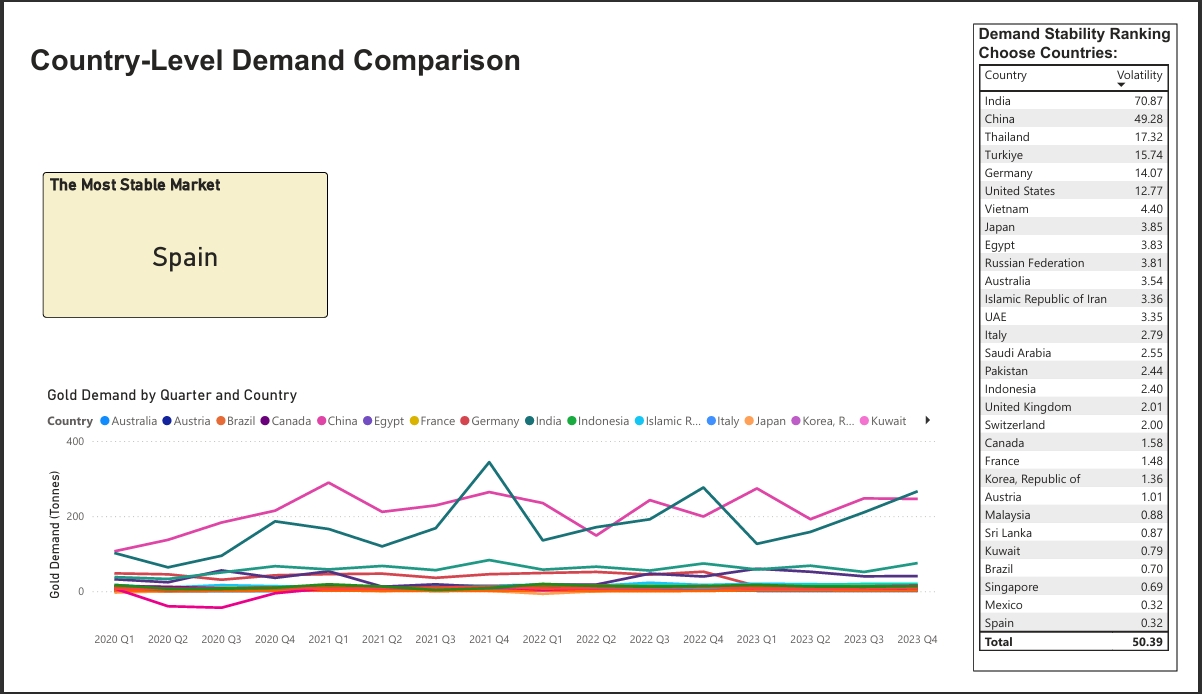

The dashboard page shown, as its layout file describes it:
{"tool":"powerbi","page":{"name":"Stability Analysis","canvas":[1280,720],"ordinal":1},"visuals":[{"type":"tableEx","title":"Demand Volatility.     Choose Countries to Compare:","fields":{"Values":["gold_demand_clean.Country","gold_demand_clean.Volatility"]},"box":[1053.3,0,226.7,720],"z":0},{"type":"lineChart","title":"Gold Demand by Quarter and Country","fields":{"Category":["gold_demand_clean.YearQuarter"],"Y":["Sum(gold_demand_clean.Gold_Demand_Tonnes)"],"Series":["gold_demand_clean.Country"]},"box":[19.2,402.4,1002.6,300.8],"z":1000},{"type":"card","title":"The Most Stable Market","fields":{"Values":["gold_demand_clean.Most Stable Country Name"]},"box":[18.6,164.6,317.7,162.3],"z":2000},{"type":"textbox","box":[0,18.3,1001.7,110],"z":3000}]}

Visuals, with their boxes in screenshot pixels (x1, y1, x2, y2), scaled from the page's 1280x720 canvas onto the 1202x694 screenshot:
"Demand Volatility.     Choose Countries to Compare:" tableEx: <box>989,0,1201,693</box>
"Gold Demand by Quarter and Country" lineChart: <box>18,388,960,678</box>
"The Most Stable Market" card: <box>17,159,316,315</box>
textbox: <box>0,18,941,124</box>
